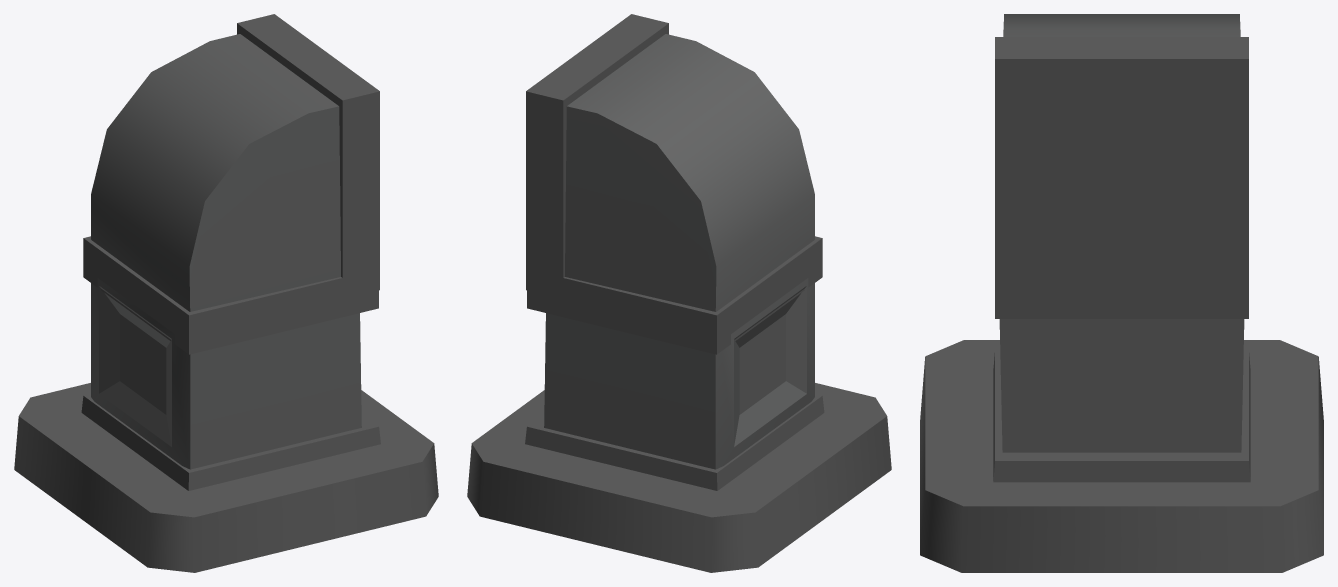
The model's file is Vent_2_B_3.glb.
The picture shows the model from 3 angles, left to right: view 1: azimuth 30°, elevation 25°; view 2: azimuth 150°, elevation 25°; view 3: azimuth 270°, elevation 25°; orthographic projection. The views are drawn at different scales.
Parts seen in each view (by area): view 1: Vent_2_B_3; view 2: Vent_2_B_3; view 3: Vent_2_B_3.
Part boxes in pixels (<box>): Vent_2_B_3: <box>14,14,438,572</box>; Vent_2_B_3: <box>467,14,891,572</box>; Vent_2_B_3: <box>920,14,1323,572</box>.
Bounding box in the file's own units: 0.5666 × 0.7552 × 0.5666.
1 material, 1 textured.
